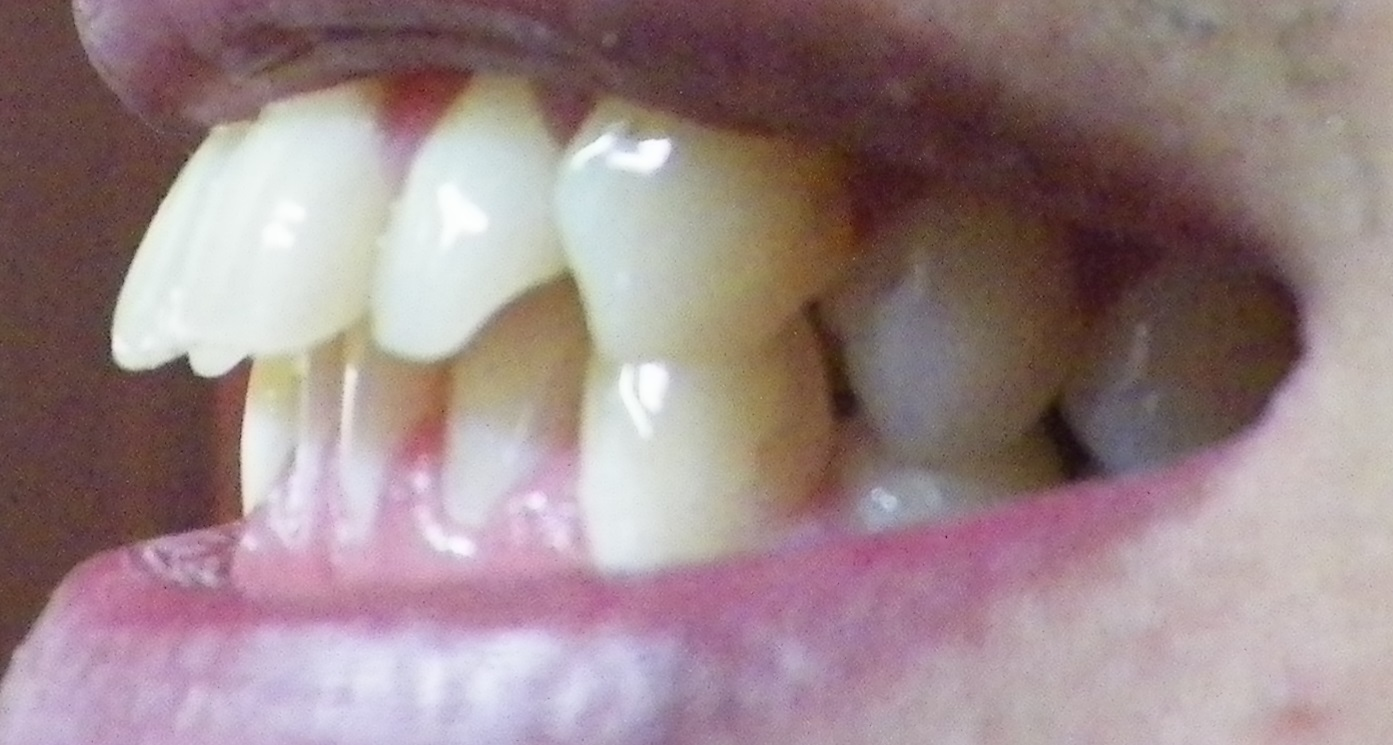boca: (118, 90, 1310, 601)
